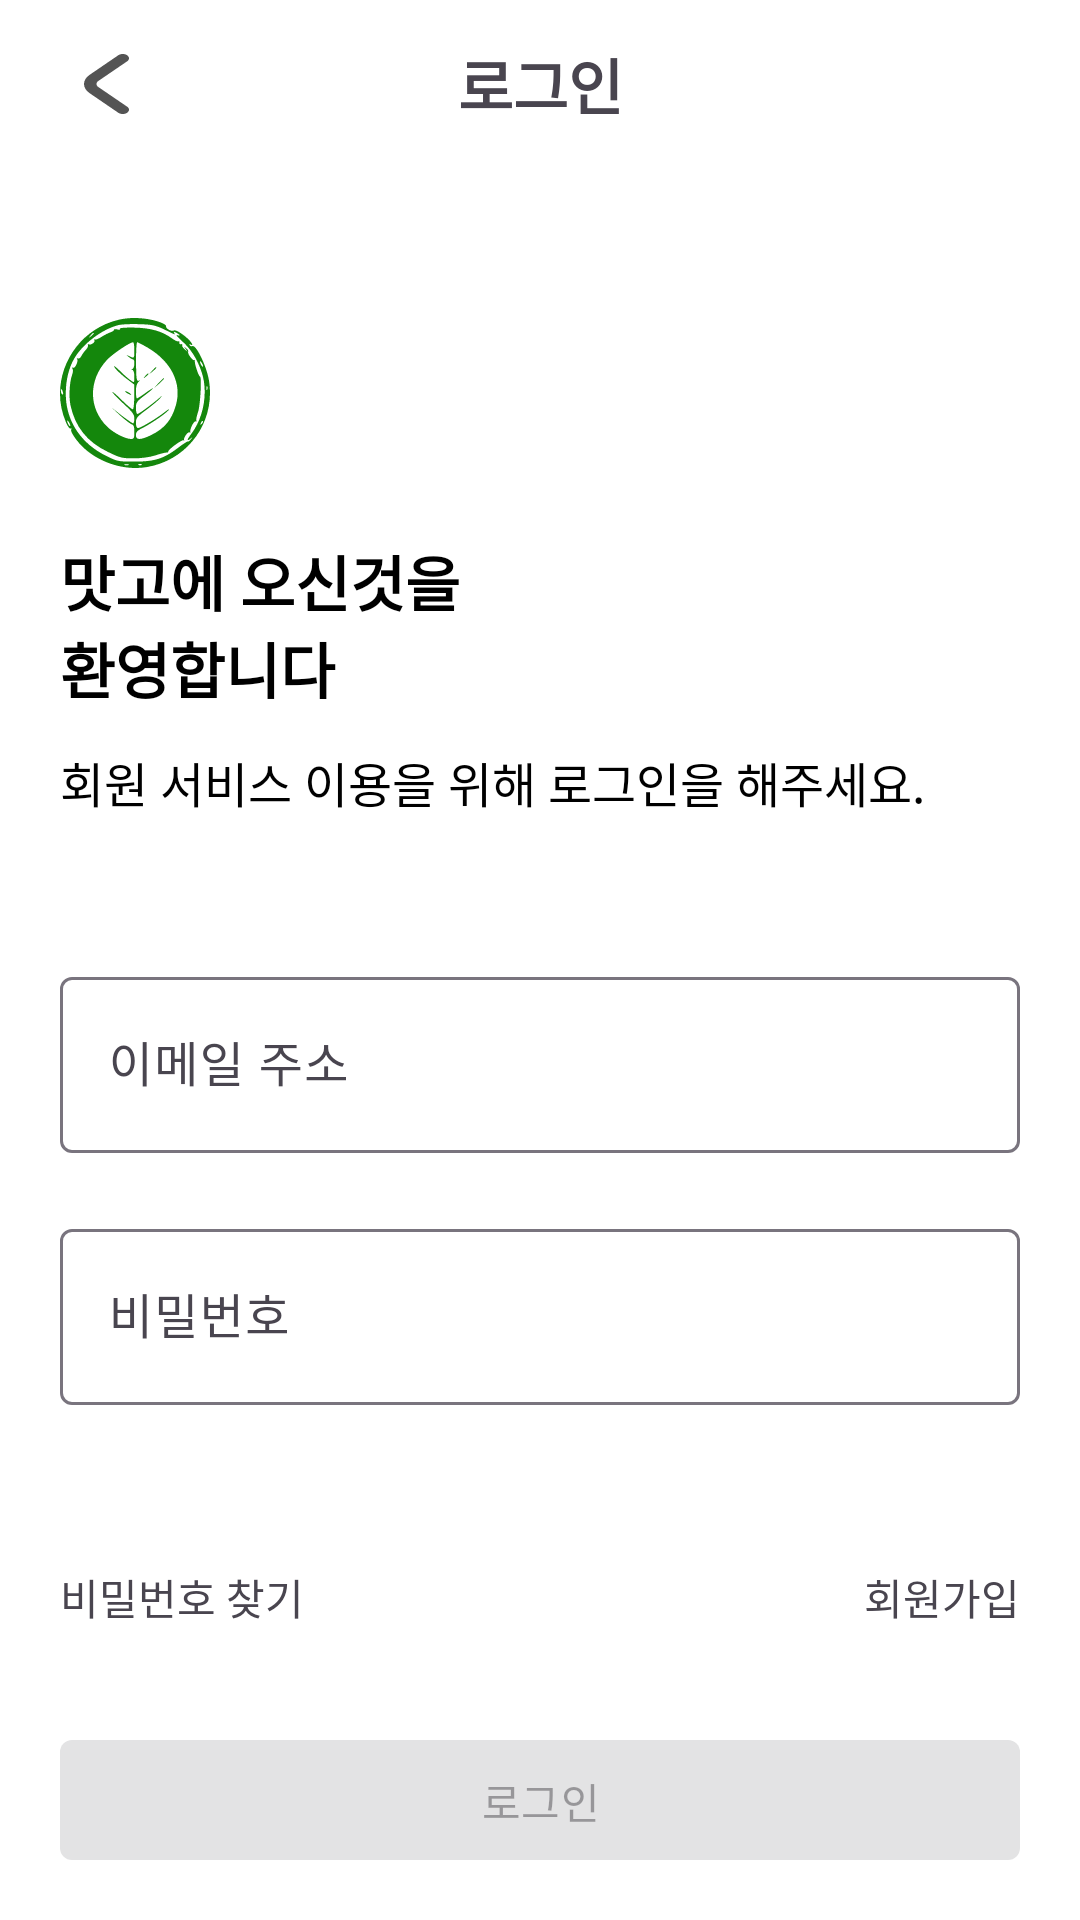

Named icons in this screenshot (1080*1920) and their bounding boxes, [x1,y1,x2,y2]:
back arrows: [84,54,129,114]
